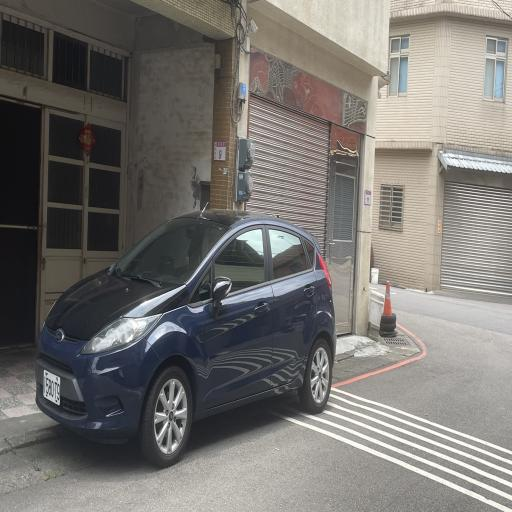MIU: (295, 317, 361, 418)
car: (24, 204, 340, 468)
redline: (329, 304, 430, 386)
